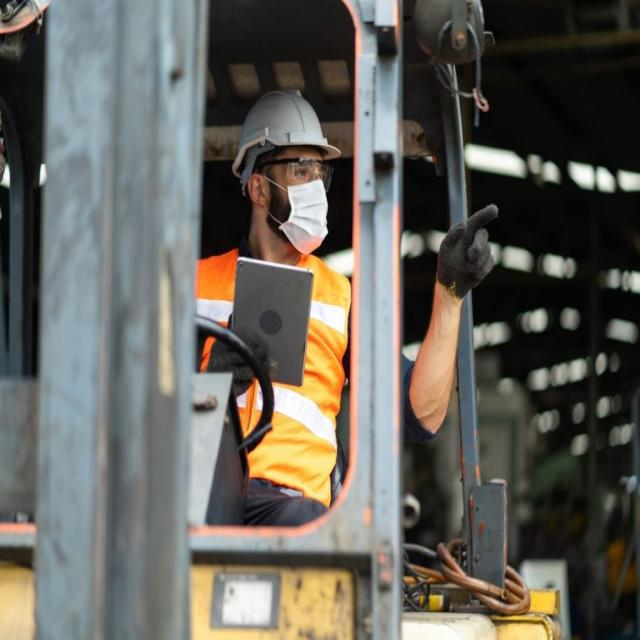goggles: (255, 155, 336, 191)
helmet: (231, 84, 345, 196)
vest: (188, 239, 360, 500)
